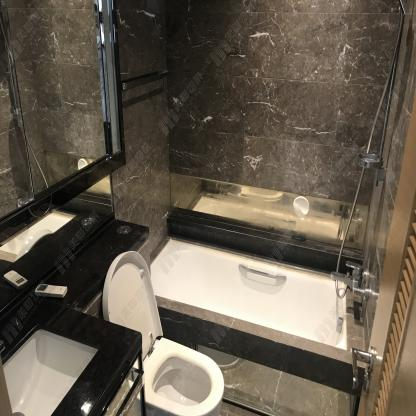Bathtub: (150, 235, 367, 416)
Toilet: (102, 252, 226, 416)
Toilet Sink: (0, 293, 142, 416)
